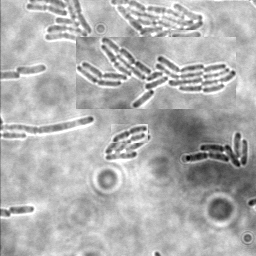Dividing: (1, 114, 80, 133), (8, 204, 35, 215)
Microcolony: (81, 110, 138, 237), (109, 1, 205, 56), (25, 1, 94, 44), (87, 171, 142, 216), (184, 130, 248, 167), (16, 63, 48, 74)
